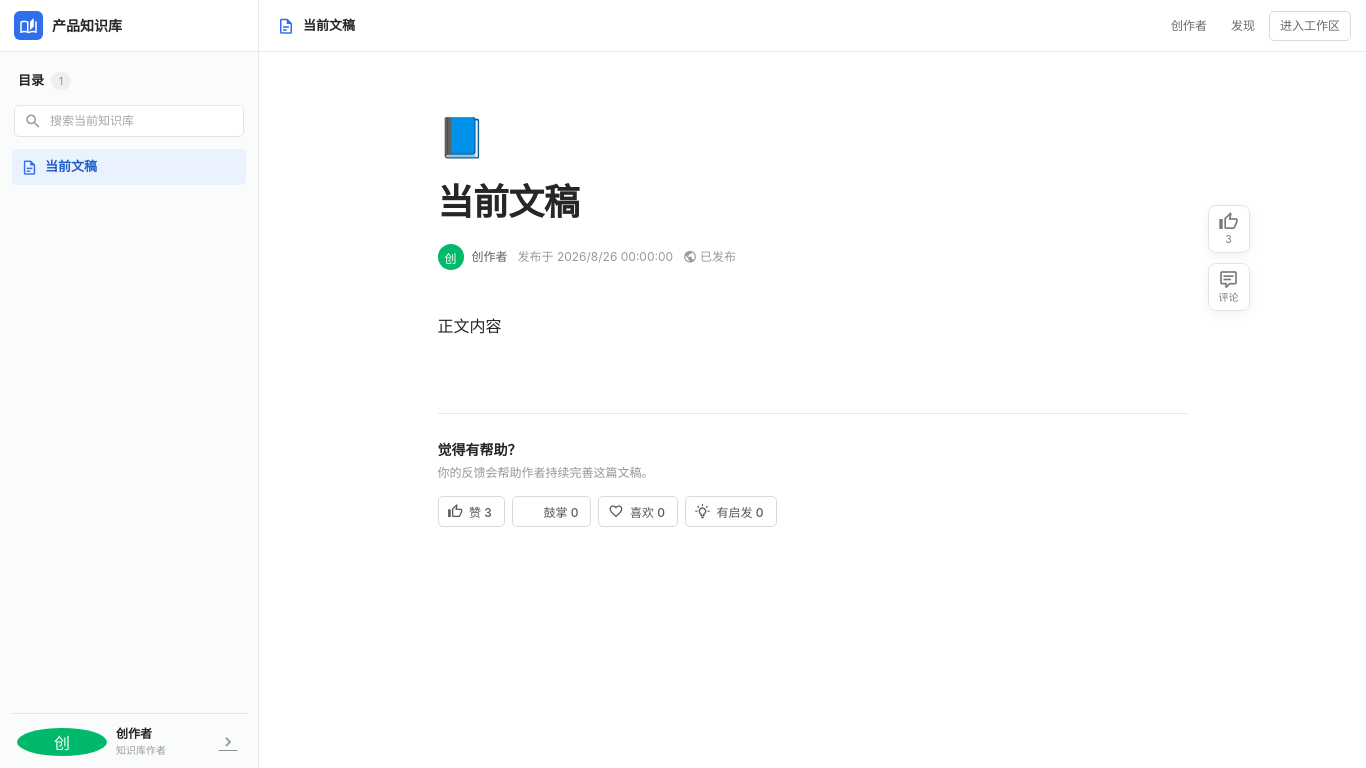
Scenario: ReaderView › keeps authenticated reactions working from the floating action rail
Click the button named "赞这篇文稿".
click(1228, 229)  # box [1208,205,1250,253]
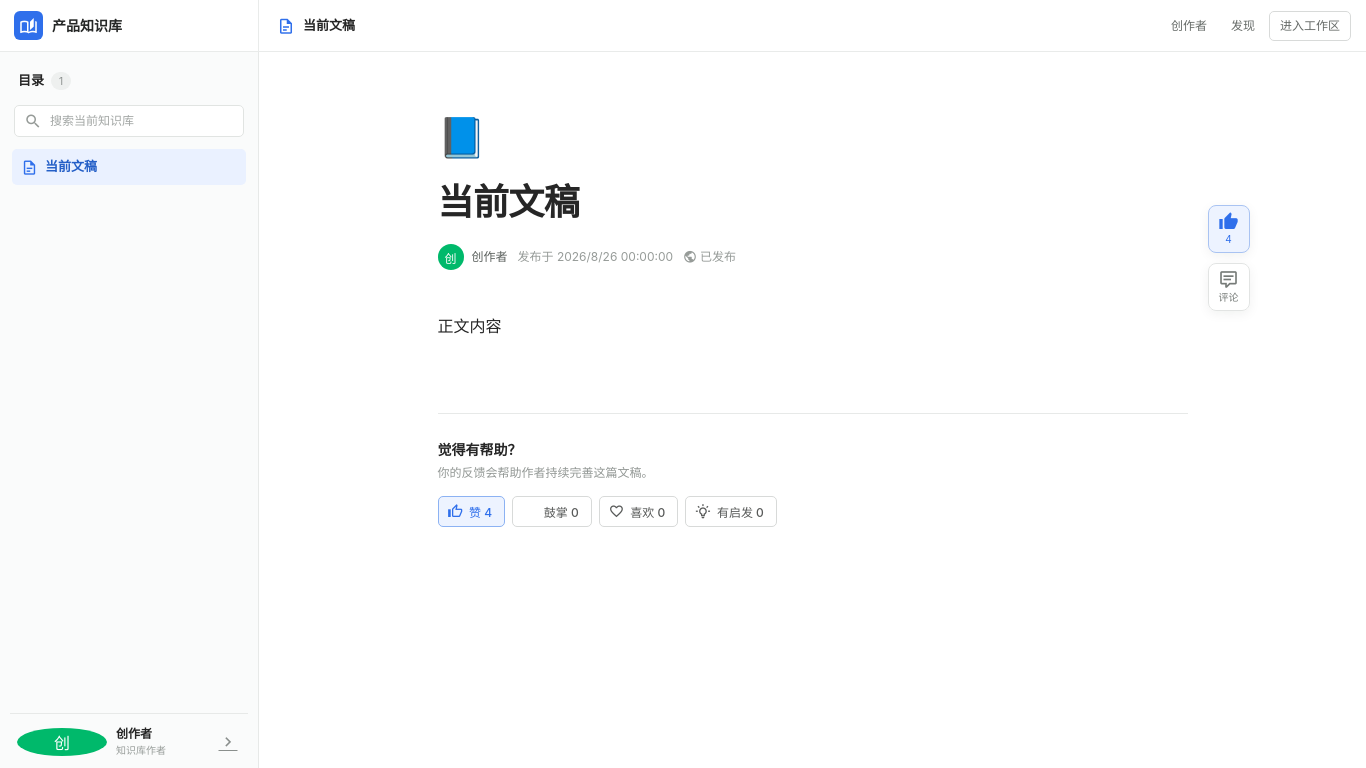
Expected: the button named "赞这篇文稿" reads "4", [1208,205,1250,253]
